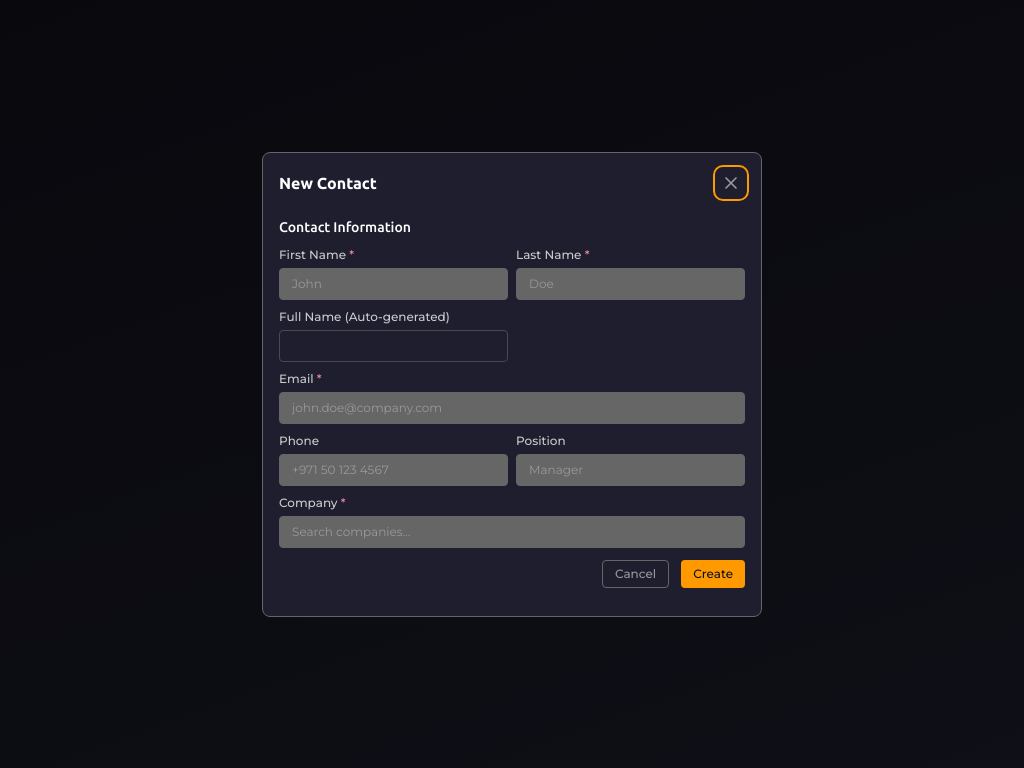
ContactModal Component › Form Fields › should show company options during search
Step 1. Type "emitt" into the field with placeholder "Search companies..." → (512,532), box left=279, top=516, right=745, bottom=548
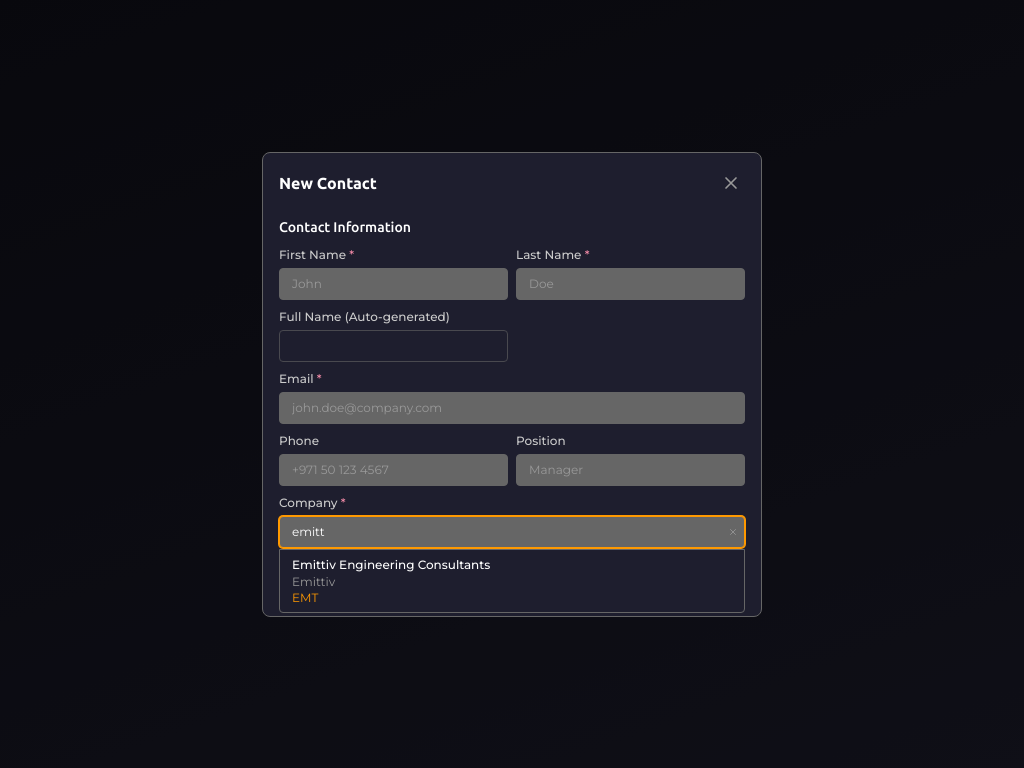
Check: the text "Emittiv Engineering Consultants" is shown, box left=292, top=556, right=490, bottom=572
